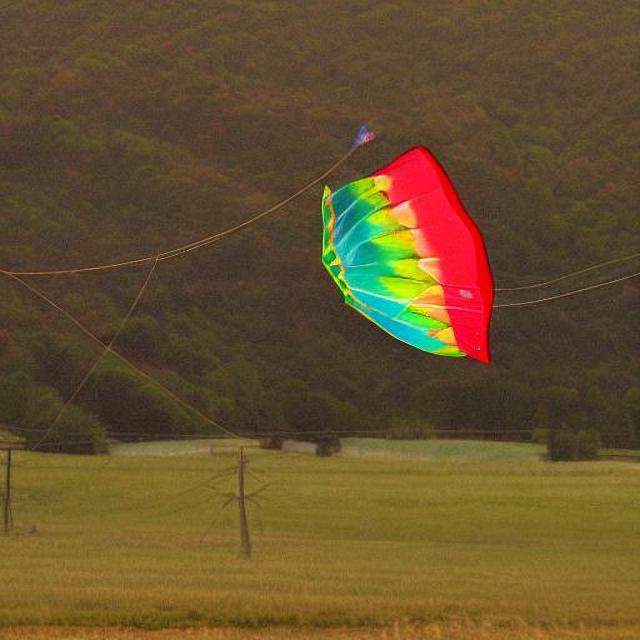floating object: (317, 142, 495, 357)
